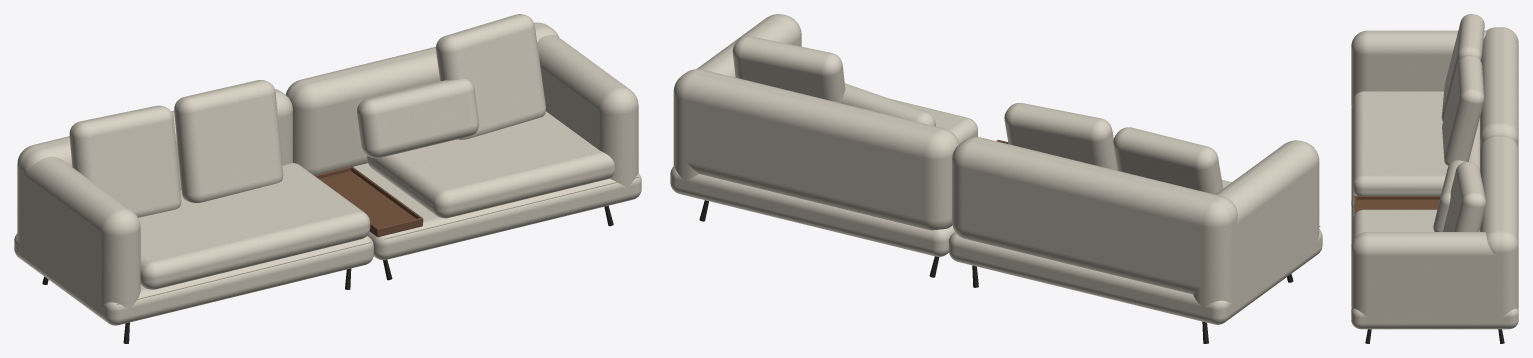
The model's file is sysdesign-ella-4s-right-tray.glb.
3 renders of one model, left to right at view 1: azimuth 30°, elevation 25°; view 2: azimuth 150°, elevation 25°; view 3: azimuth 270°, elevation 25°, orthographic. The views are drawn at different scales.
Visible parts, largest first — view 1: included soft cushion (×4), single broad seat cushion (×2), rounded outer arm (×2), module upholstered base (×2), rounded upholstered back (×2), walnut tray bottom, Sysdesign Ella 4 seat oat beige right-tray; view 2: rounded upholstered back (×2), included soft cushion (×4), module upholstered base (×2), rounded outer arm (×2), single broad seat cushion; view 3: rounded outer arm (×2), single broad seat cushion (×2), rounded upholstered back (×2), included soft cushion (×4), module upholstered base (×2), walnut tray bottom, tray raised long edge.
Boxes of the visible parts, x1,y1,x2,y2 form: included soft cushion (×4): (69,14,545,217); single broad seat cushion (×2): (138,111,614,289); rounded outer arm (×2): (17,35,638,308); module upholstered base (×2): (14,163,641,325); rounded upholstered back (×2): (17,22,559,225); walnut tray bottom: (319,171,422,236); Sysdesign Ella 4 seat oat beige right-tray: (117,176,638,304); rounded upholstered back (×2): (673,69,1237,294); included soft cushion (×4): (732,36,1223,194); module upholstered base (×2): (670,166,1322,324); rounded outer arm (×2): (673,14,1319,307); single broad seat cushion: (891,99,977,143); rounded outer arm (×2): (1351,30,1518,317); single broad seat cushion (×2): (1353,91,1479,240); rounded upholstered back (×2): (1480,27,1518,301); included soft cushion (×4): (1433,14,1486,231); module upholstered base (×2): (1351,107,1518,329); walnut tray bottom: (1356,199,1439,211); tray raised long edge: (1355,196,1440,199).
Size of the model in its own units: 2.9 by 0.8848 by 0.95.
4 materials, 1 textured.
